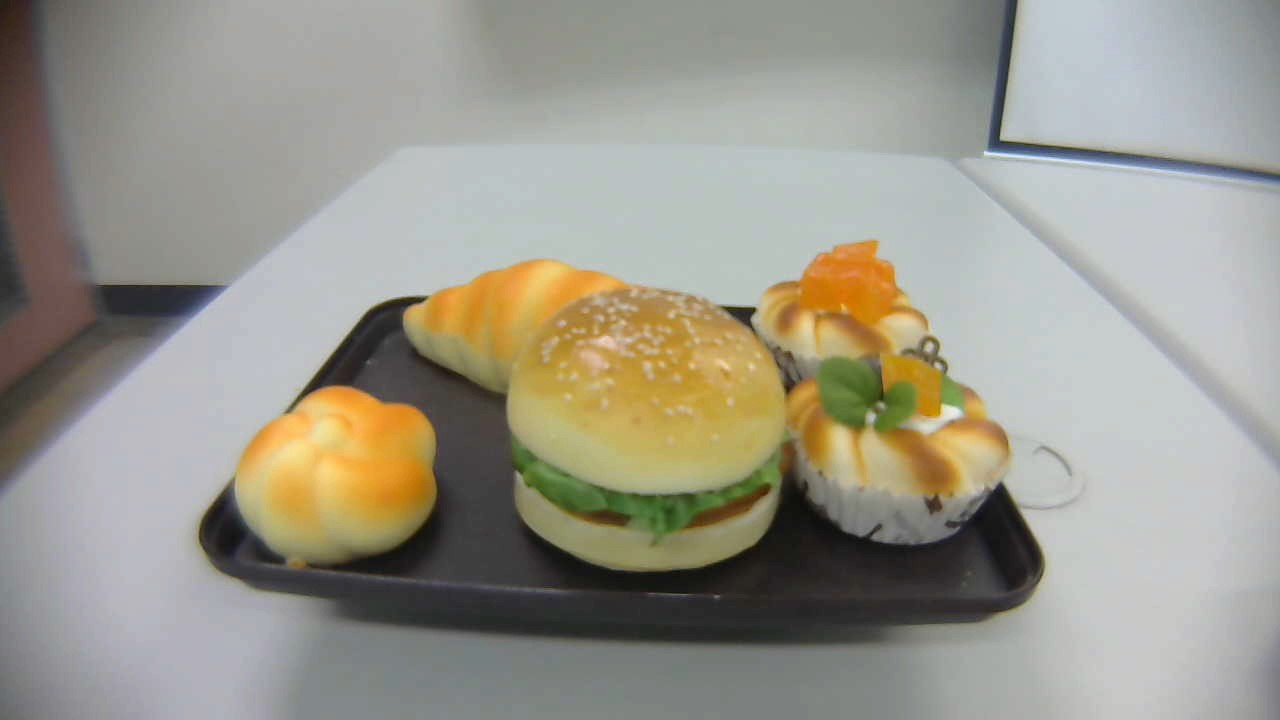croissant: (403, 260, 678, 394)
fruit tart: (783, 334, 1010, 547)
hamburger: (506, 284, 786, 572)
mango tart: (751, 238, 934, 390)
twist bread: (234, 384, 437, 572)
